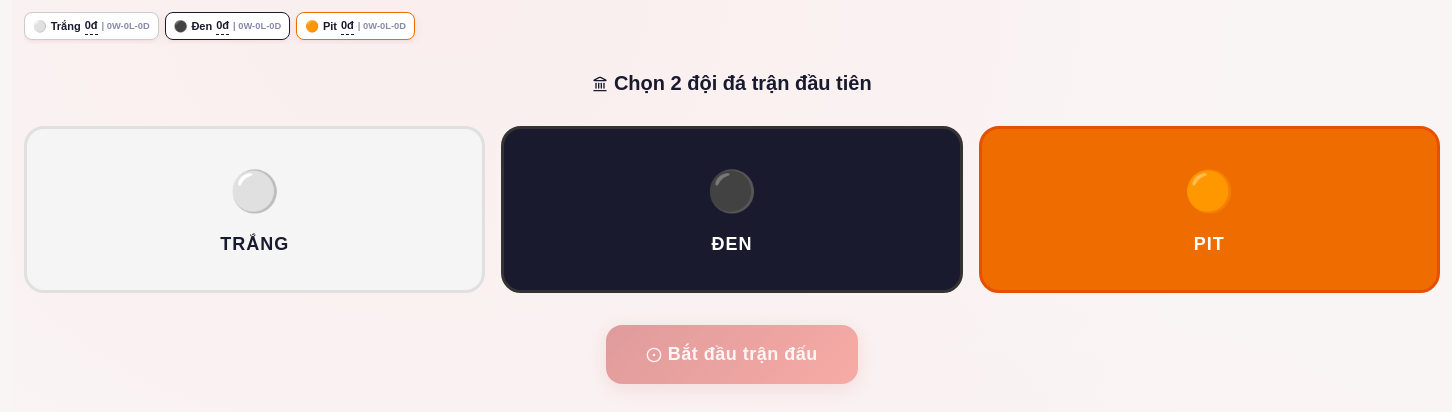
Test: ThreeTeamMode › Pick phase - Chọn 2 đội ra sân › toggle chọn đội: bấm lần 2 → bỏ chọn
Click the button "⚪ Trắng". click: (255, 209)
box: [24, 126, 485, 292]
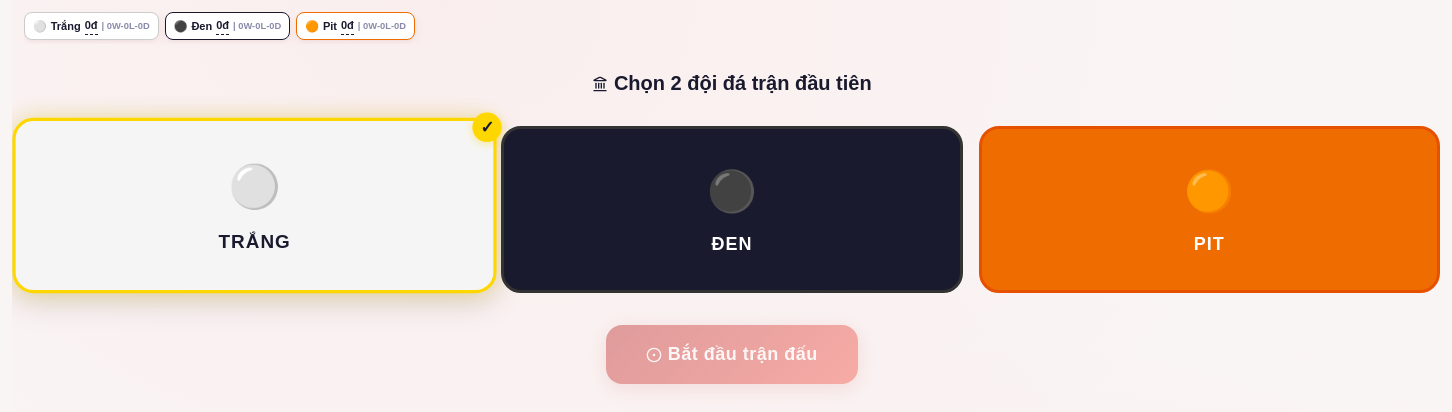
Expected: the text "✓" is shown once, [473, 112, 502, 142]
Click the button "⚪ Trắng ✓". click: (255, 205)
box: [12, 117, 497, 293]
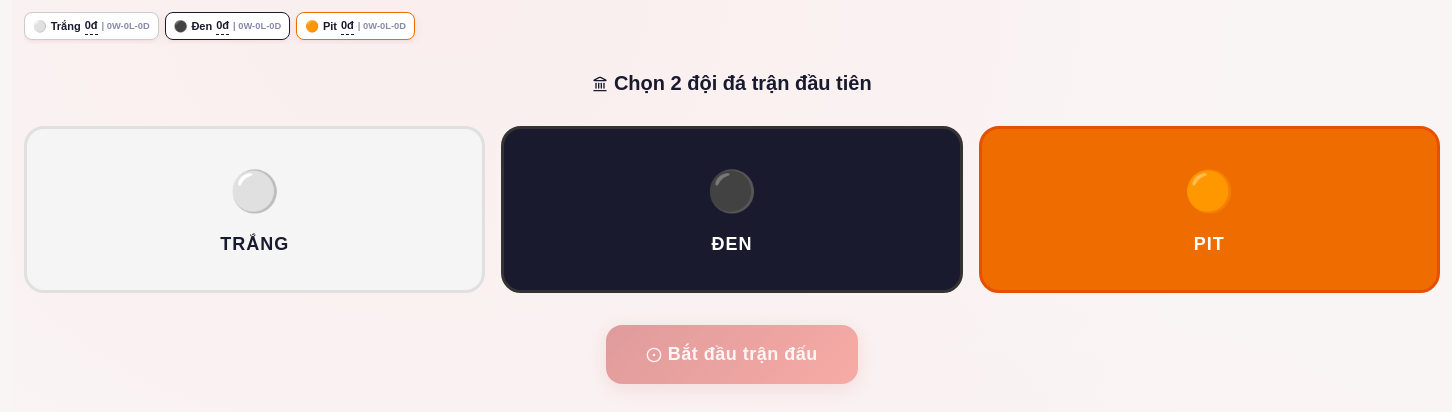
Expected: the text "✓" is not shown
